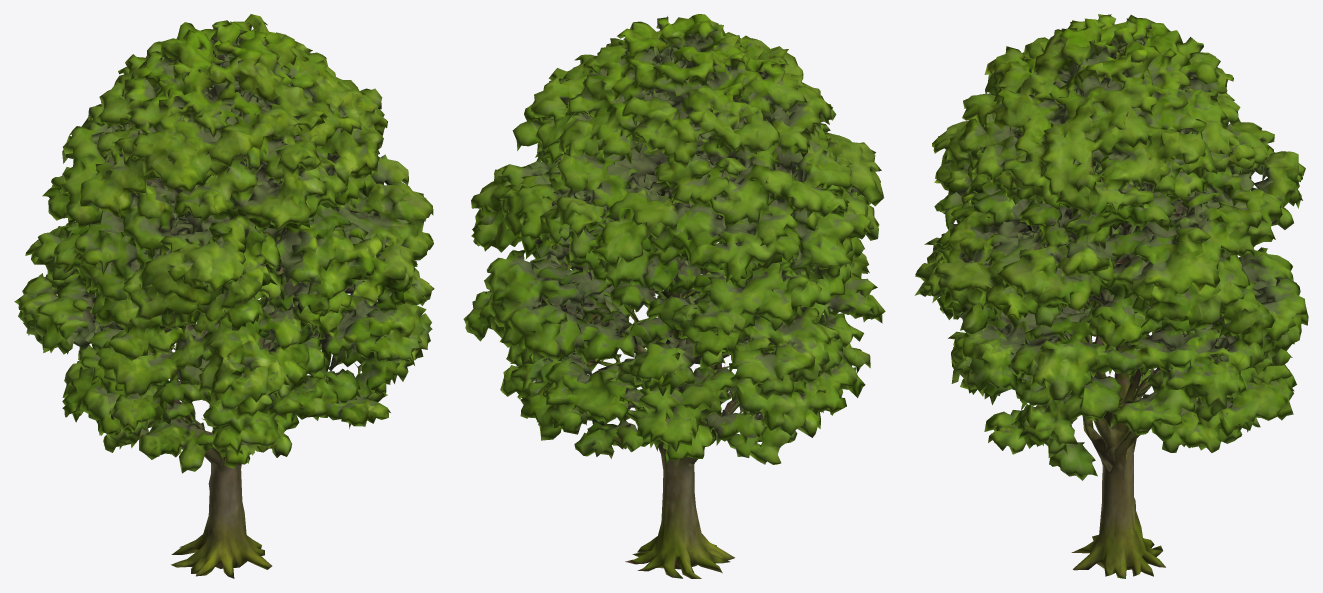
The model's file is Solitary_Oak_1006221800_texture.glb.
3 views of the same model, side by side, from view 1: azimuth 30°, elevation 25°; view 2: azimuth 150°, elevation 25°; view 3: azimuth 270°, elevation 25° (orthographic).
Bounding box in the file's own units: 1.29 × 1.91 × 1.26.
Materials: 1 (1 with a texture image).
